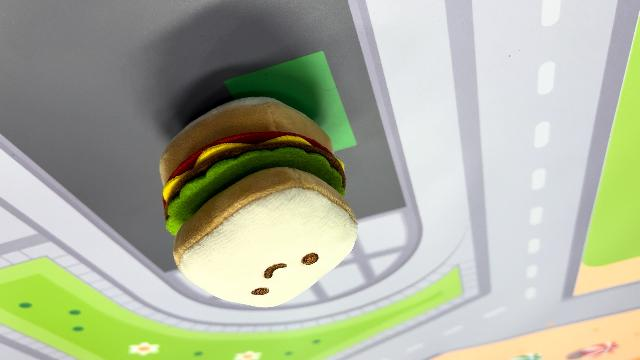sandwich: (156, 94, 360, 308)
